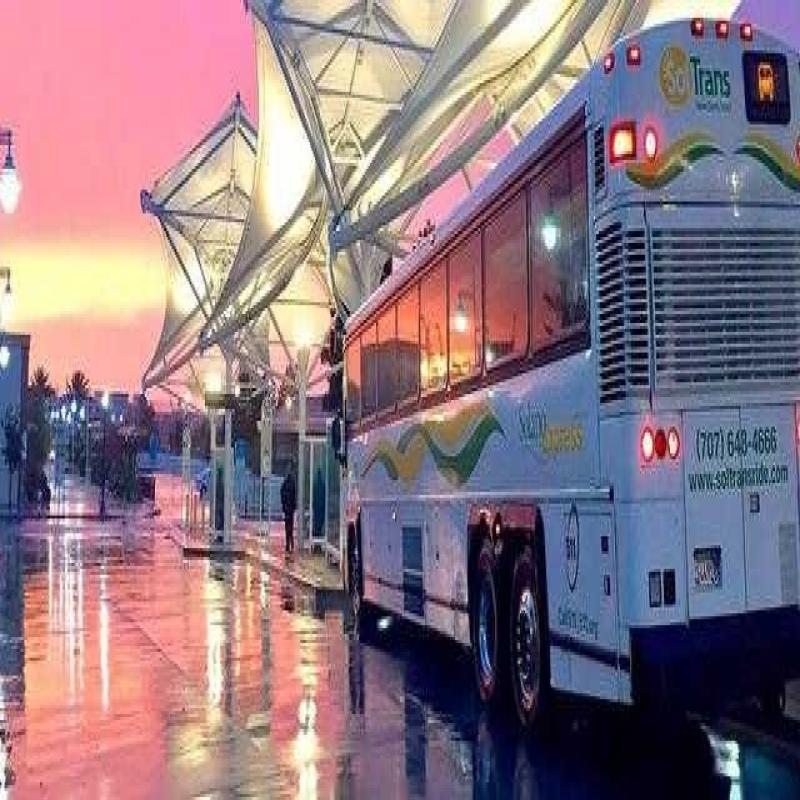bus: (328, 156, 800, 708)
